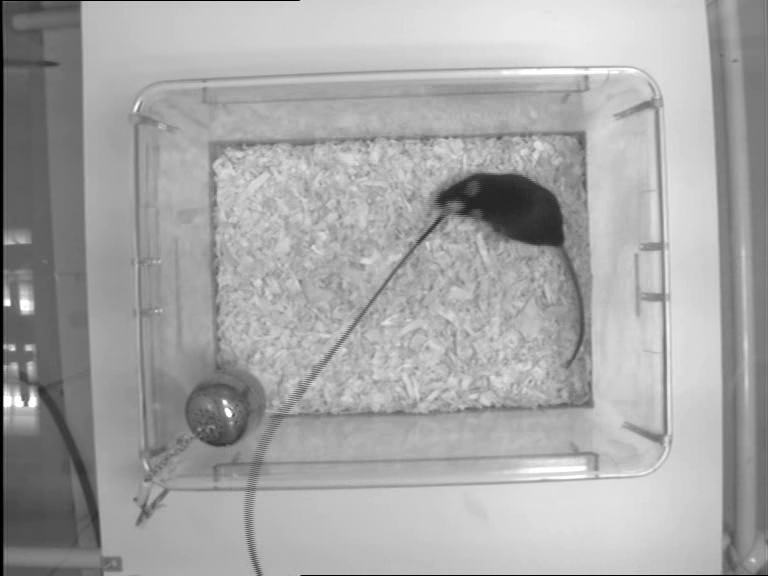mice: (435, 171, 588, 371)
